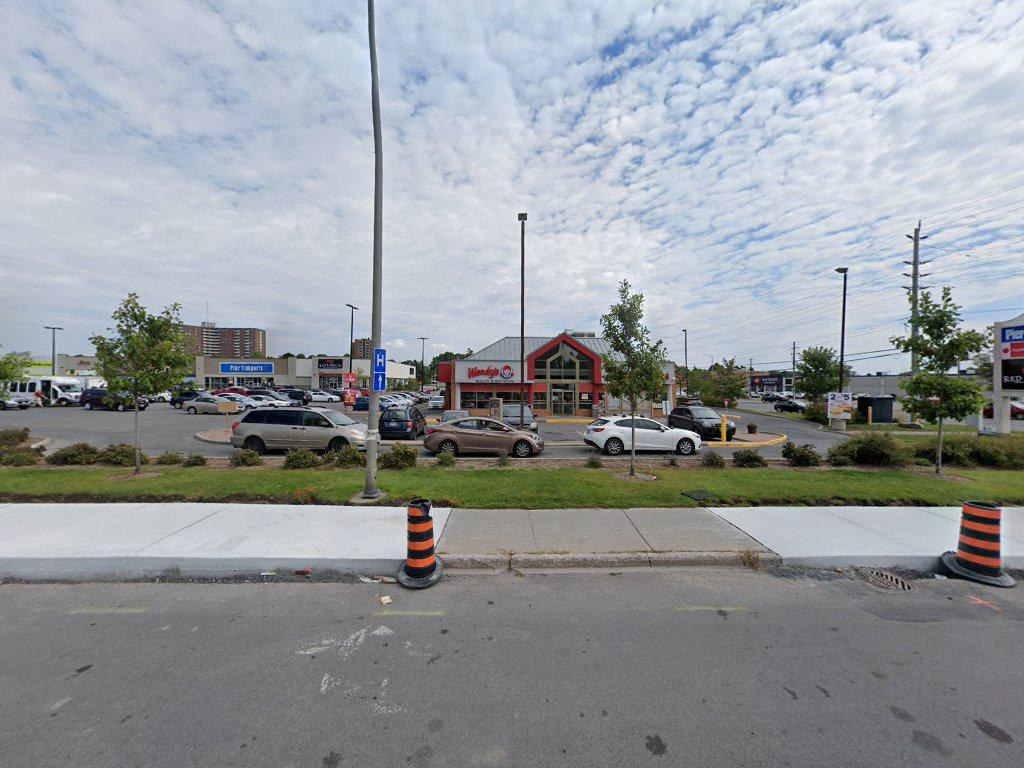trunk: (935, 410, 949, 480)
